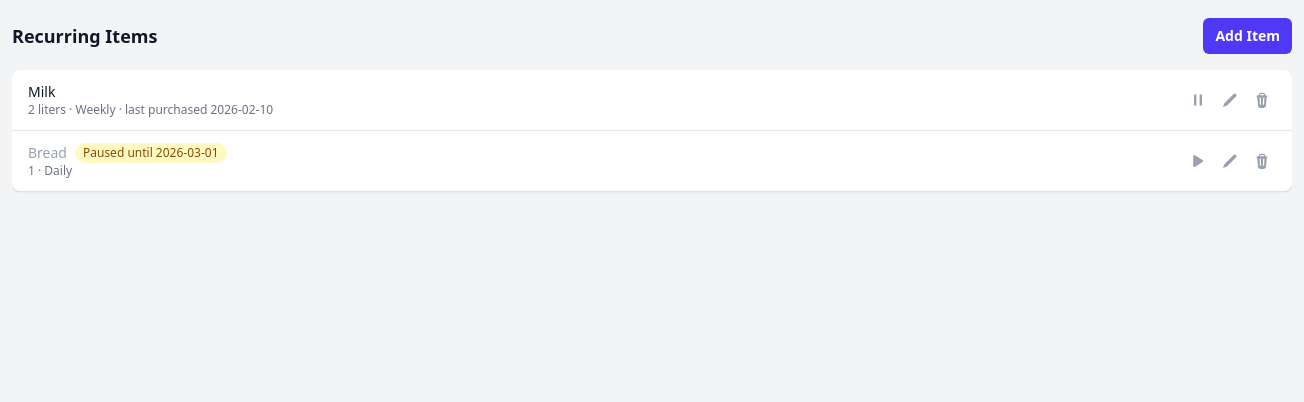
Test: RecurringItemsList › opens create form when add button clicked
Expected: the text "Milk" is shown, [28,82,55,102]
Click the button "Add Item" at point(1248, 36), box [1203,18,1292,54]
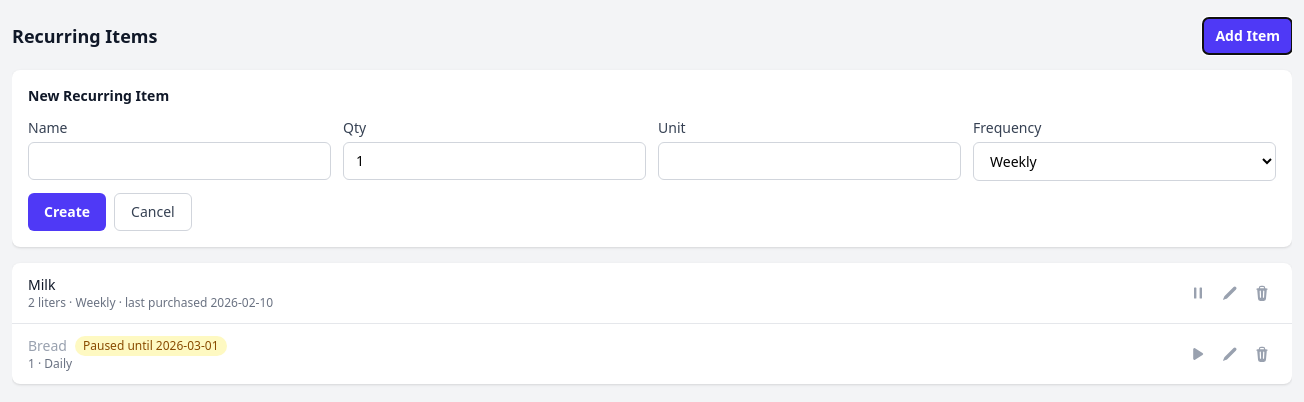
Expected: the field labelled "Name" is shown, [28,142,331,180]
Expected: the dropdown labelled "Frequency" is shown, [973,142,1276,181]
